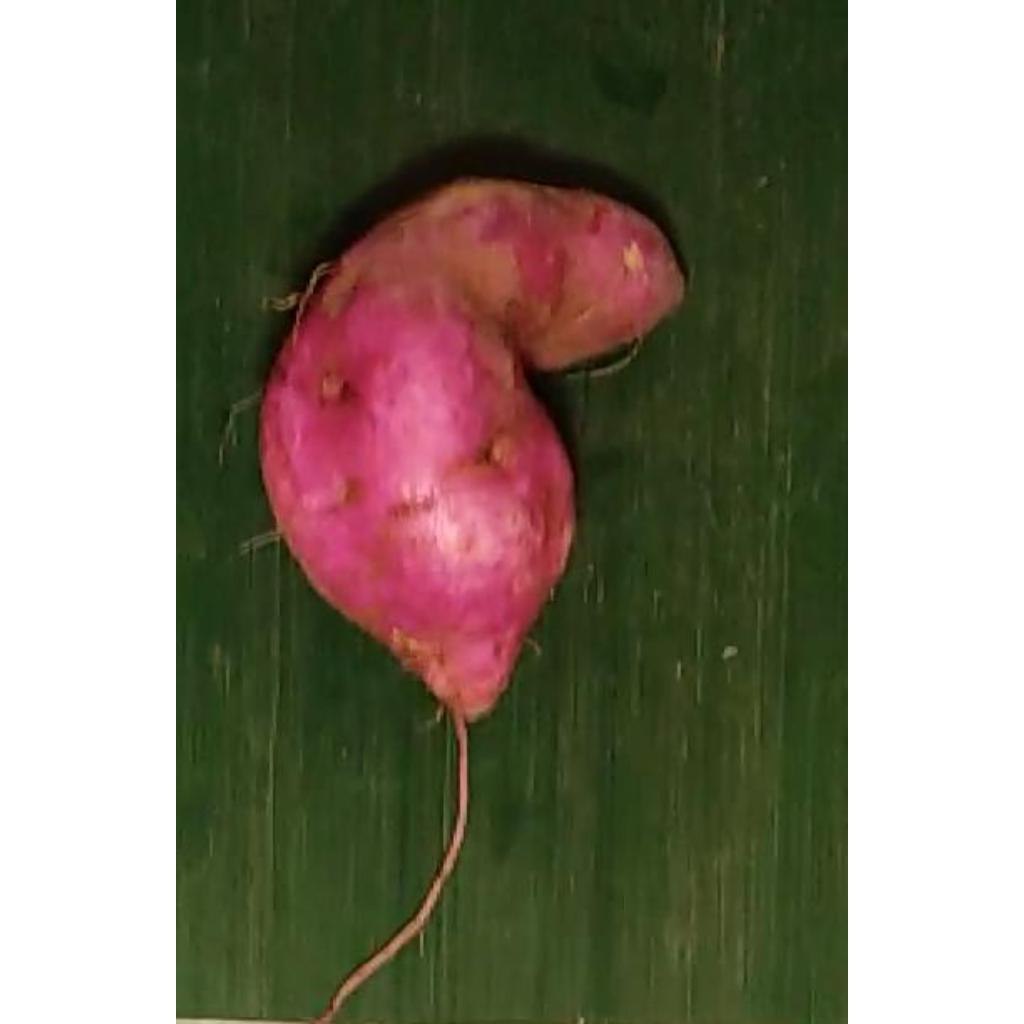Sweet Potato: (258, 181, 690, 719)
